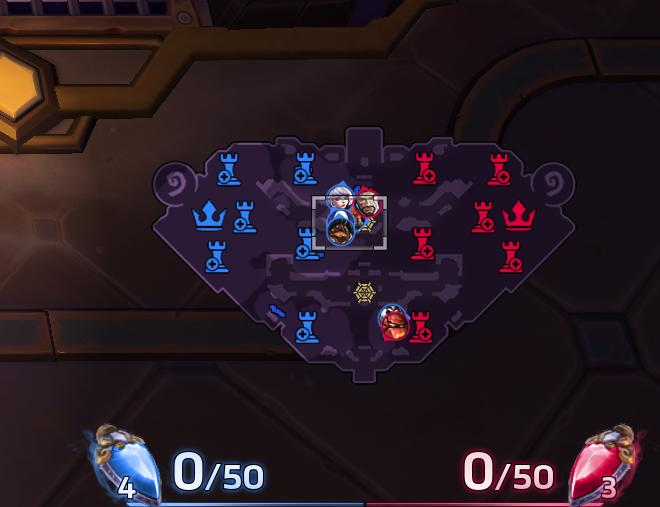blue nexus: (190, 198, 227, 231)
blue player: (378, 303, 411, 341), (325, 208, 355, 246), (324, 182, 355, 211)
blue tower: (294, 225, 323, 260), (291, 150, 318, 185), (293, 309, 320, 343), (216, 151, 241, 186), (232, 199, 257, 233), (204, 239, 229, 273)
red nexus: (500, 198, 537, 231)
red player: (353, 186, 381, 218)
red tower: (485, 151, 511, 186), (407, 309, 433, 343), (412, 150, 437, 185), (498, 239, 523, 273), (409, 226, 434, 260), (470, 199, 495, 233)
